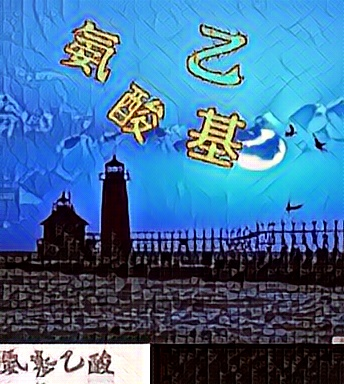B0B1: (55, 20, 122, 84)
BBF9: (183, 105, 250, 169)
CBE1: (105, 81, 172, 145)
D2D2: (185, 24, 252, 88)
